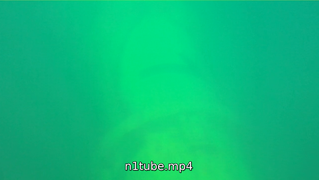1: (137, 53, 207, 81)
pipe: (90, 1, 252, 179)
